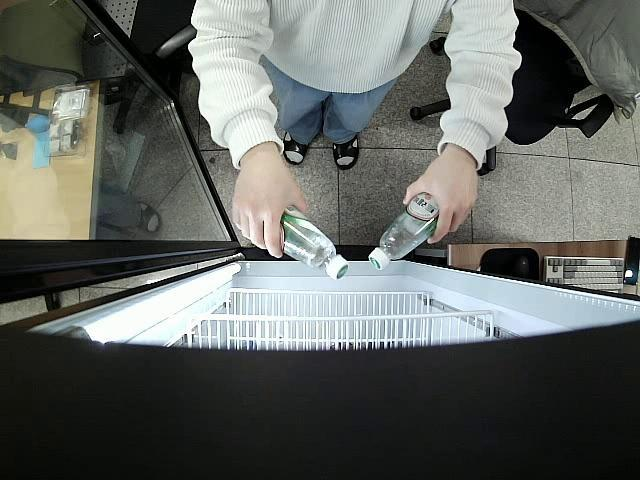18_trevi: (368, 192, 438, 272), (282, 205, 349, 281)
